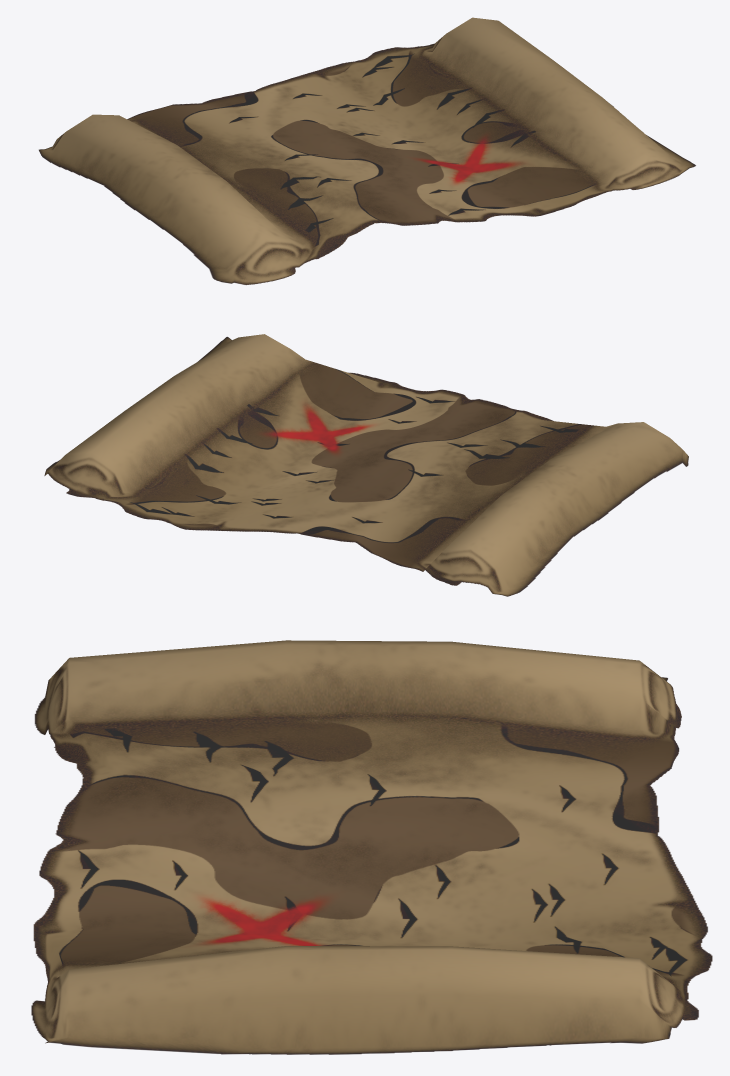
Rendered from map_texture.glb.
3 views of the same model, one above another, from view 1: azimuth 30°, elevation 25°; view 2: azimuth 150°, elevation 25°; view 3: azimuth 270°, elevation 25° (orthographic). The views are drawn at different scales.
Parts seen in each view (by area): view 1: Plane; view 2: Plane; view 3: Plane.
Part boxes in pixels (x1=…): Plane: x1=39, y1=17, x2=695, y2=284; Plane: x1=44, y1=334, x2=688, y2=596; Plane: x1=31, y1=640, x2=712, y2=1054.
Bounding box in the file's own units: 1.61 × 0.1656 × 1.21.
1 material, 1 textured.
